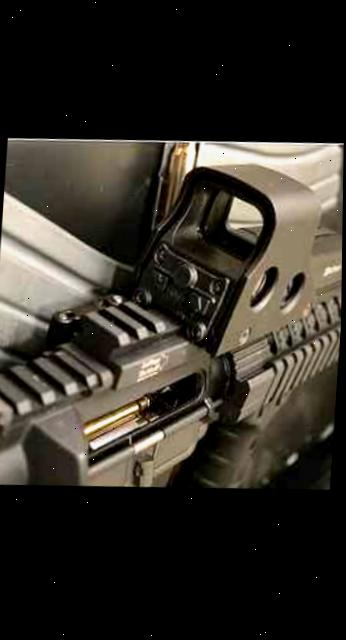rifle: (0, 166, 344, 502)
